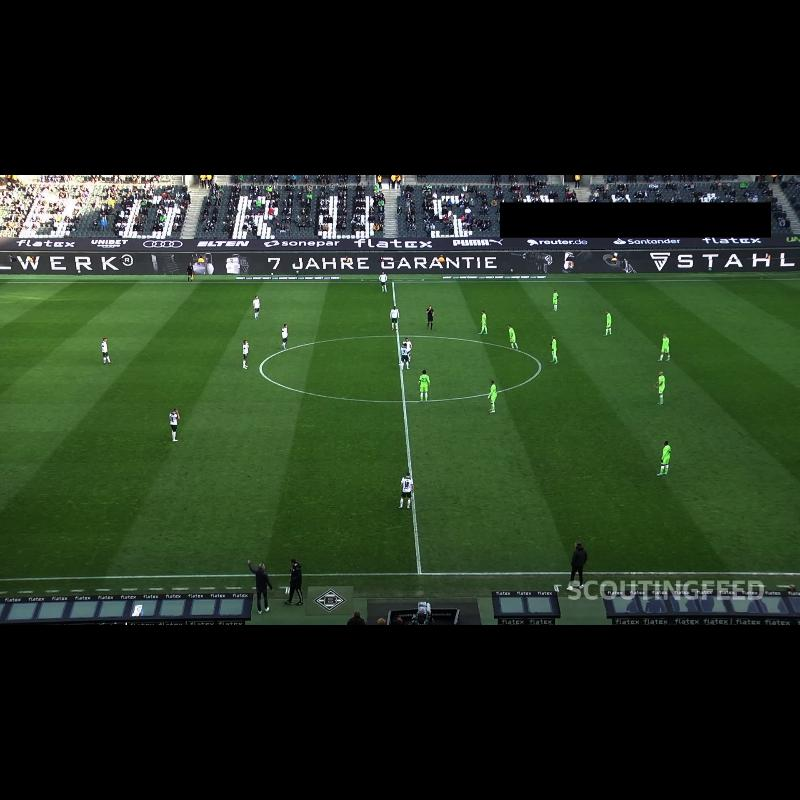crossing_player_zone: (685, 278, 800, 312), (0, 282, 101, 311)
pitch: (0, 279, 800, 579)
